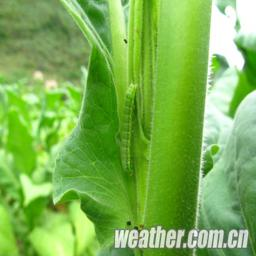Tobacco_budworm: (119, 81, 136, 177)
